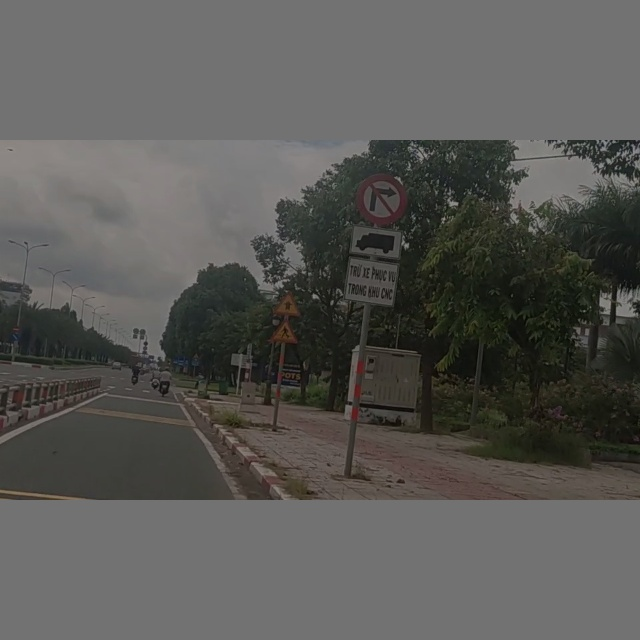P.123b: (353, 171, 409, 225)
S.505a*Xe tai: (344, 223, 404, 308)
W.207: (271, 290, 302, 317)
W.224: (269, 317, 299, 344)
